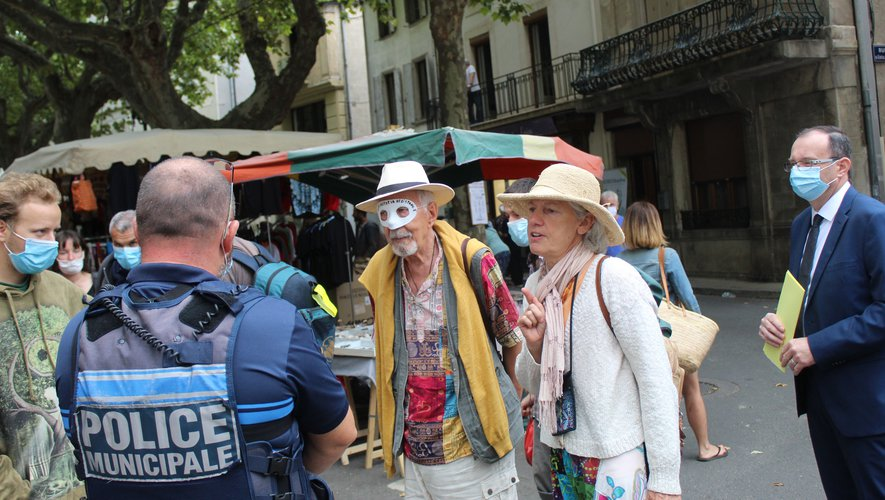with_incorrect_mask: (57, 244, 86, 272)
with_mask: (13, 210, 59, 278), (787, 152, 832, 197), (507, 205, 532, 250), (113, 235, 142, 266)
without_mask: (379, 202, 426, 254), (529, 202, 569, 252)
